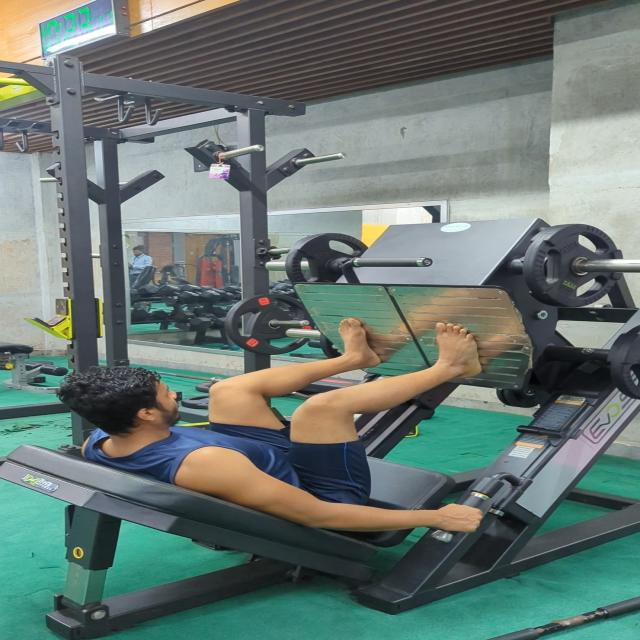Normal_LegPress: (48, 312, 518, 546)
